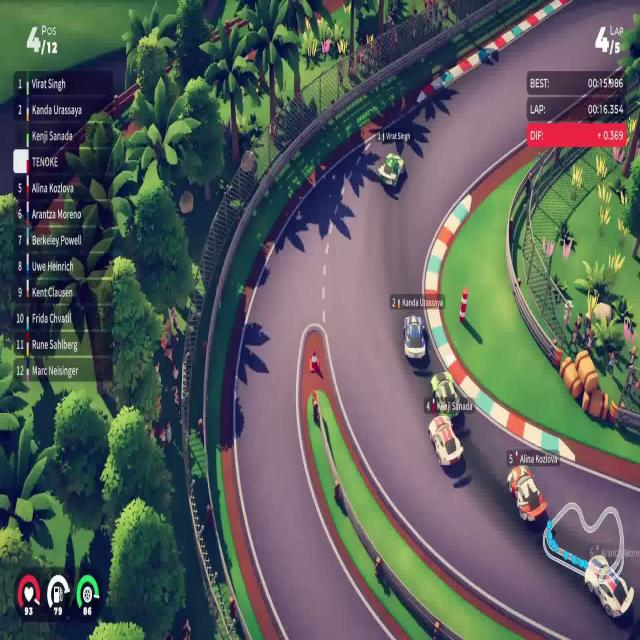car: (506, 464, 547, 524), (427, 413, 464, 468), (428, 370, 461, 417), (402, 313, 427, 361), (378, 151, 406, 190)
